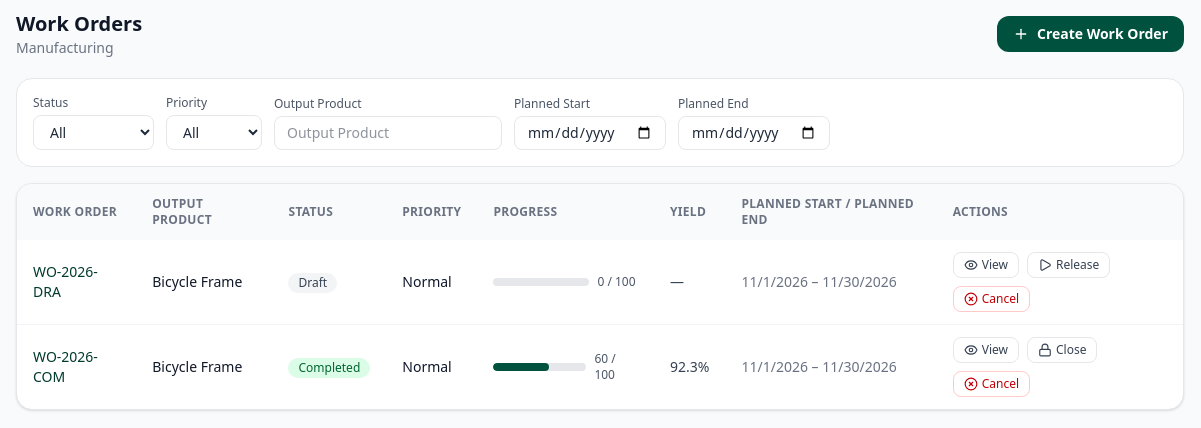
Test case: work order list page › filters by status, product name and planned date range
expect the number of links with test id "work-order-link" is 2: met, box [33, 262, 98, 301]; [33, 347, 98, 386]
Select "Draft" in the dropdown with test id "status-filter": (94, 132) [33, 115, 154, 150]
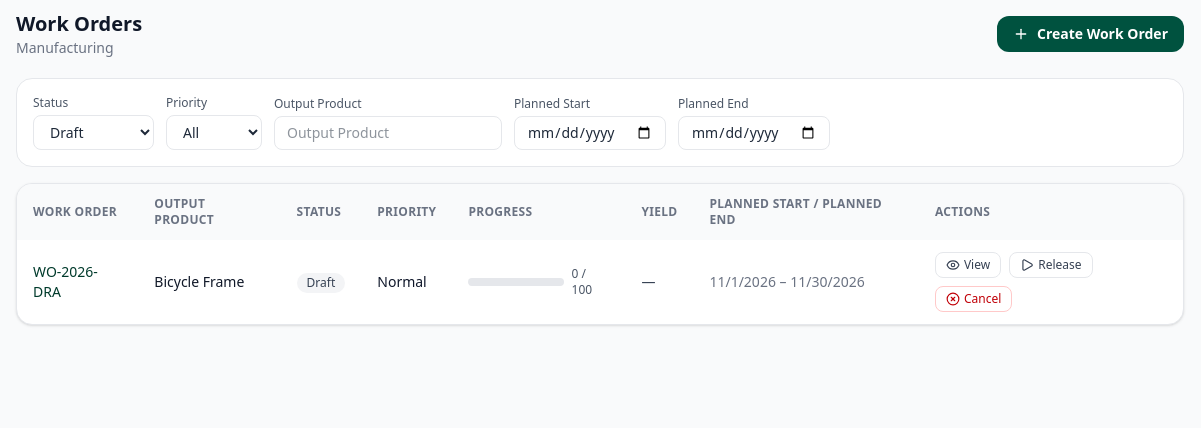
expect the number of links with test id "work-order-link" is 1: met, box [33, 262, 98, 301]
Select "All" in the dropdown with test id "status-filter": (94, 132) [33, 115, 154, 150]
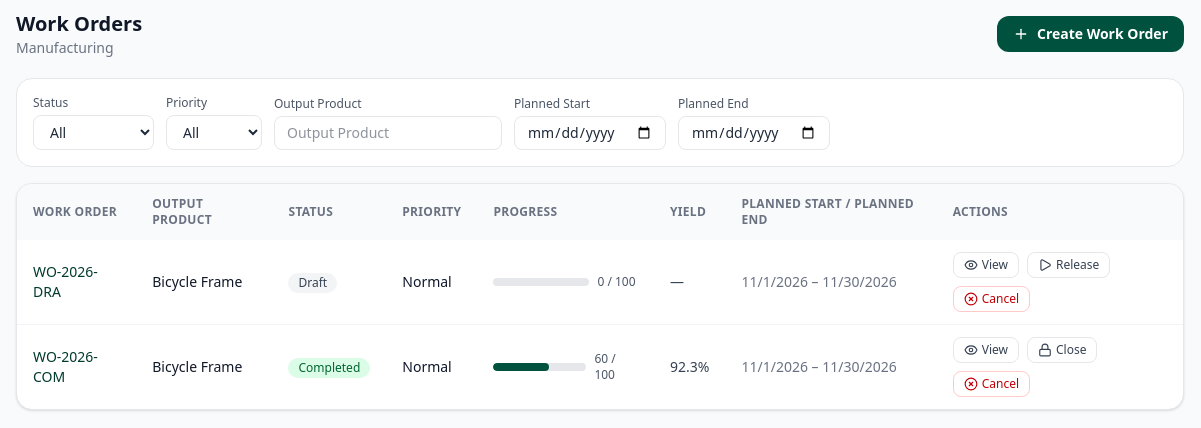
In the date field with test id "from-date": (590, 133) [514, 116, 666, 150], type "2026-12-01"
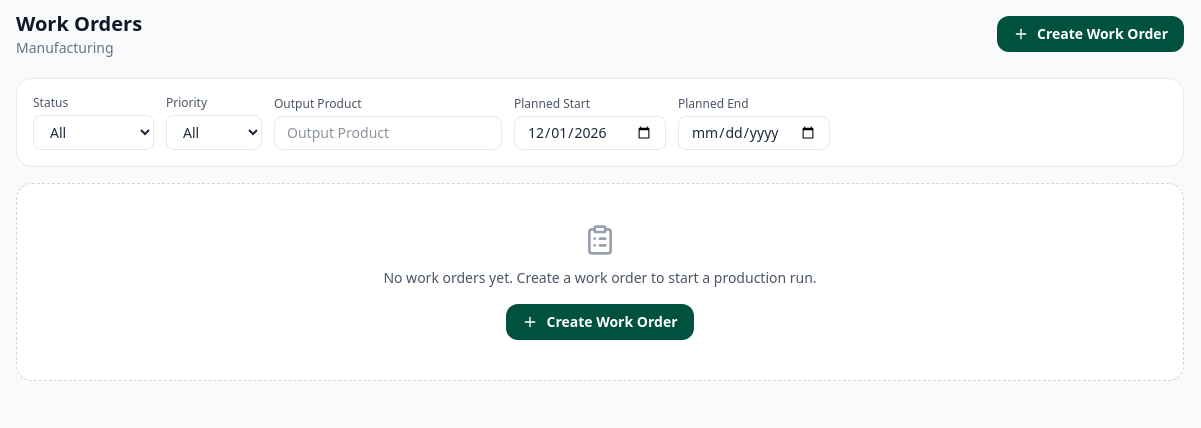
expect no links with test id "work-order-link" are shown: met
